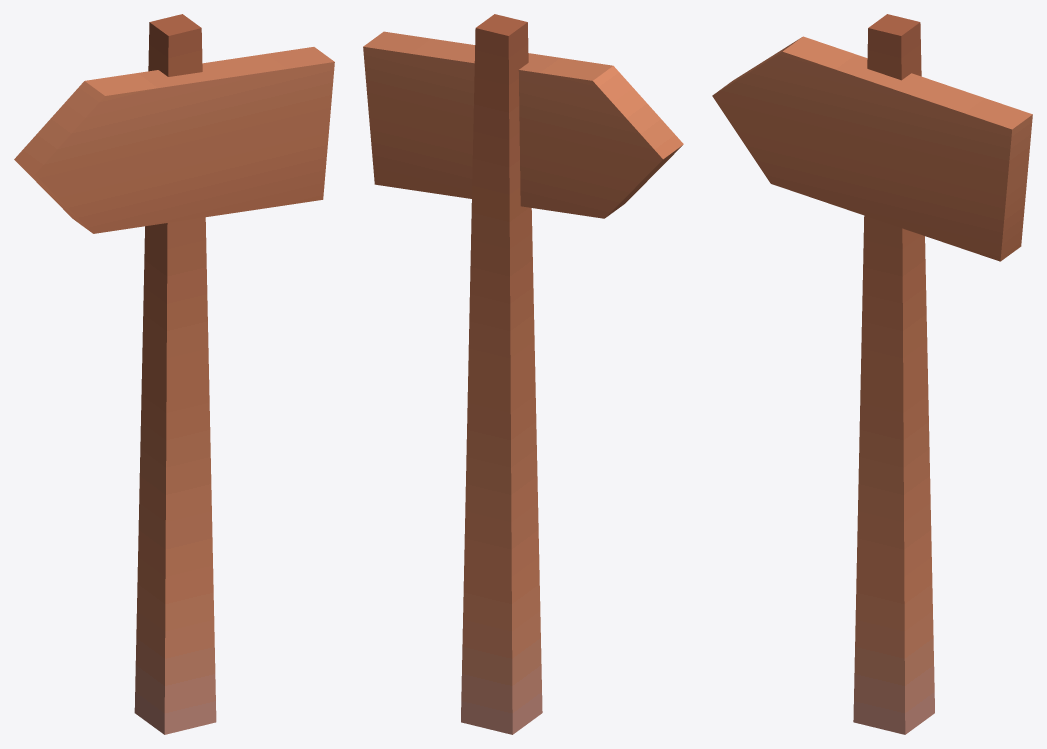
File: signpost-single.glb
The picture shows the model from 3 angles, left to right: view 1: azimuth 30°, elevation 25°; view 2: azimuth 150°, elevation 25°; view 3: azimuth 330°, elevation 25°; orthographic projection.
Visible parts, largest first — view 1: signpost-single; view 2: signpost-single; view 3: signpost-single.
Part boxes in pixels (<box>): signpost-single: <box>14,14,334,734</box>; signpost-single: <box>363,14,683,734</box>; signpost-single: <box>712,14,1032,734</box>.
Bounding box in the file's own units: 0.2086 × 0.4601 × 0.043.
Materials: 1 (1 with a texture image).
